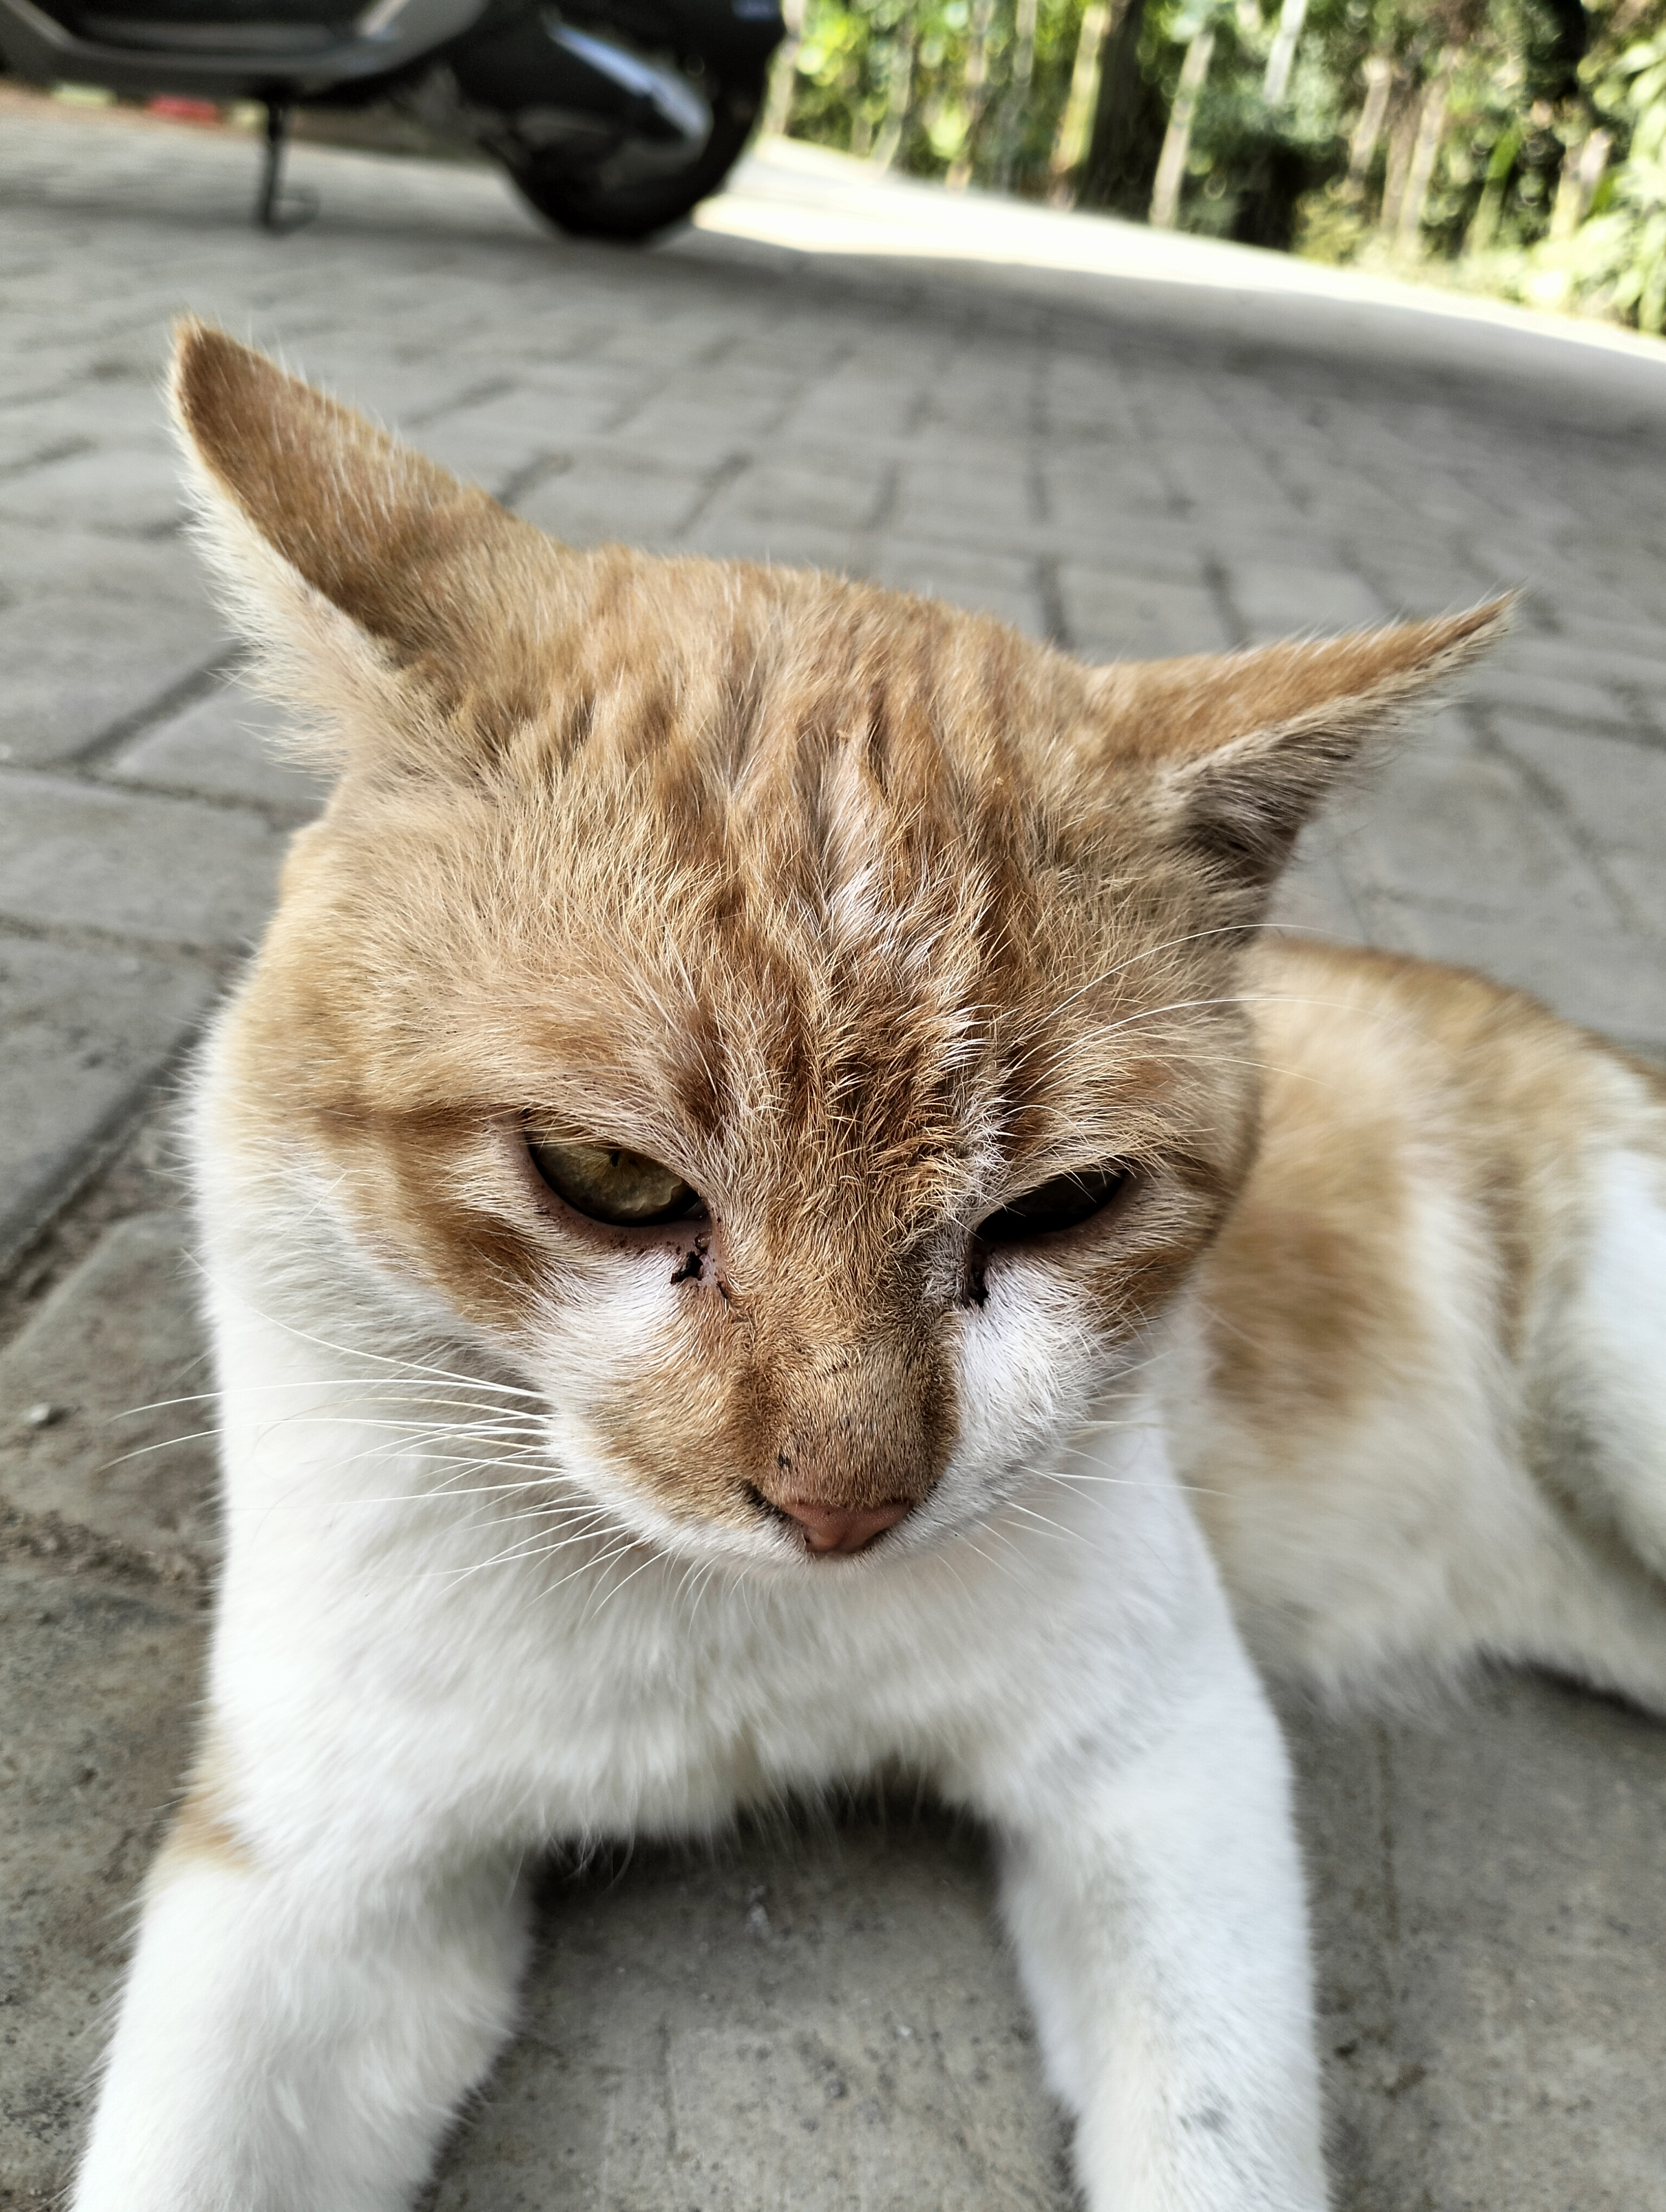oyen: (146, 284, 1550, 1629)
